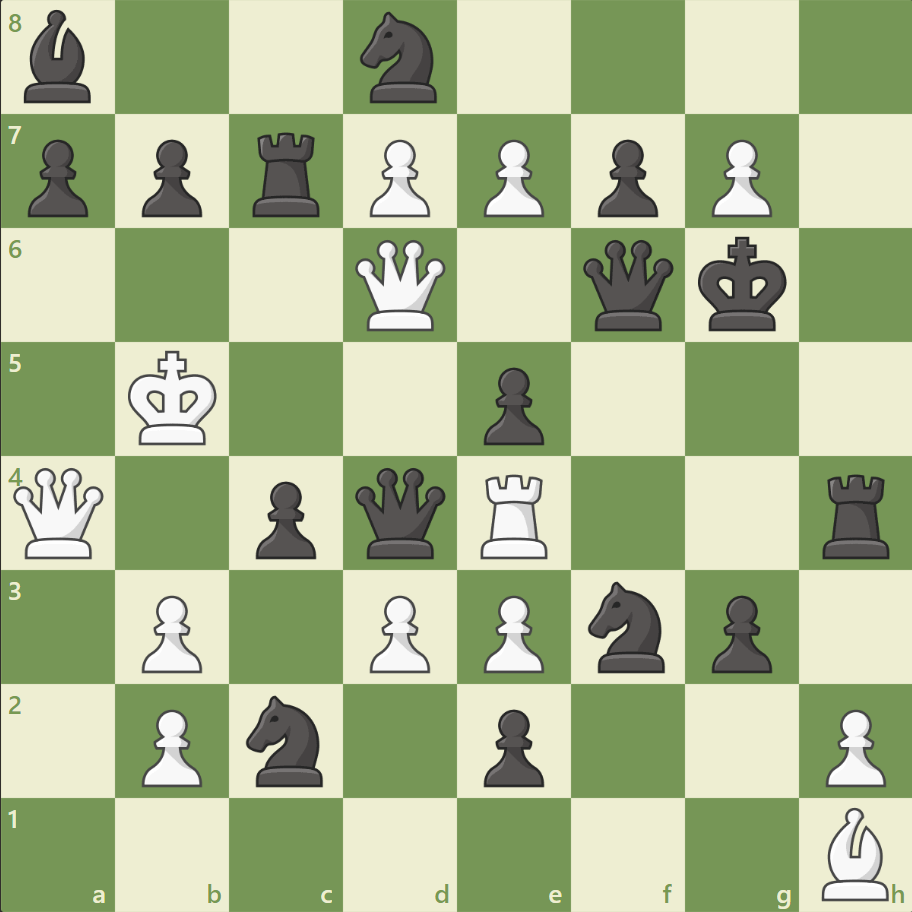B: (812, 801, 896, 904)
K: (124, 344, 224, 452)
P: (474, 132, 549, 223), (701, 132, 776, 223), (133, 586, 208, 677), (474, 586, 549, 677), (133, 700, 208, 791), (361, 132, 435, 223), (361, 586, 435, 677), (815, 700, 889, 791)
Q: (351, 236, 450, 335), (10, 463, 109, 562)
R: (473, 466, 556, 563)
b: (17, 6, 101, 109)
k: (692, 231, 792, 339)
n: (351, 7, 449, 110), (238, 688, 335, 791), (579, 575, 676, 677)
p: (20, 132, 95, 223), (133, 132, 208, 223), (474, 359, 549, 450), (247, 473, 322, 564), (701, 586, 776, 677), (474, 700, 549, 791), (588, 132, 662, 223)
q: (578, 236, 677, 335), (351, 463, 450, 562)
r: (246, 125, 329, 222), (814, 466, 897, 563)
